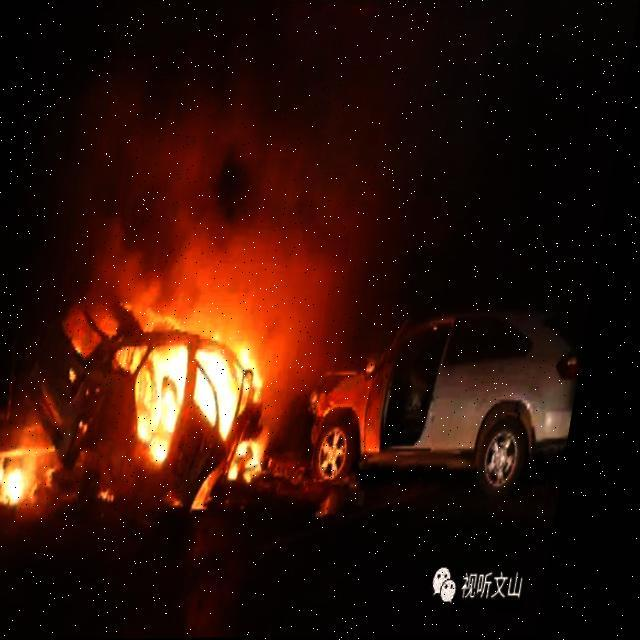Fire: (0, 300, 300, 510)
